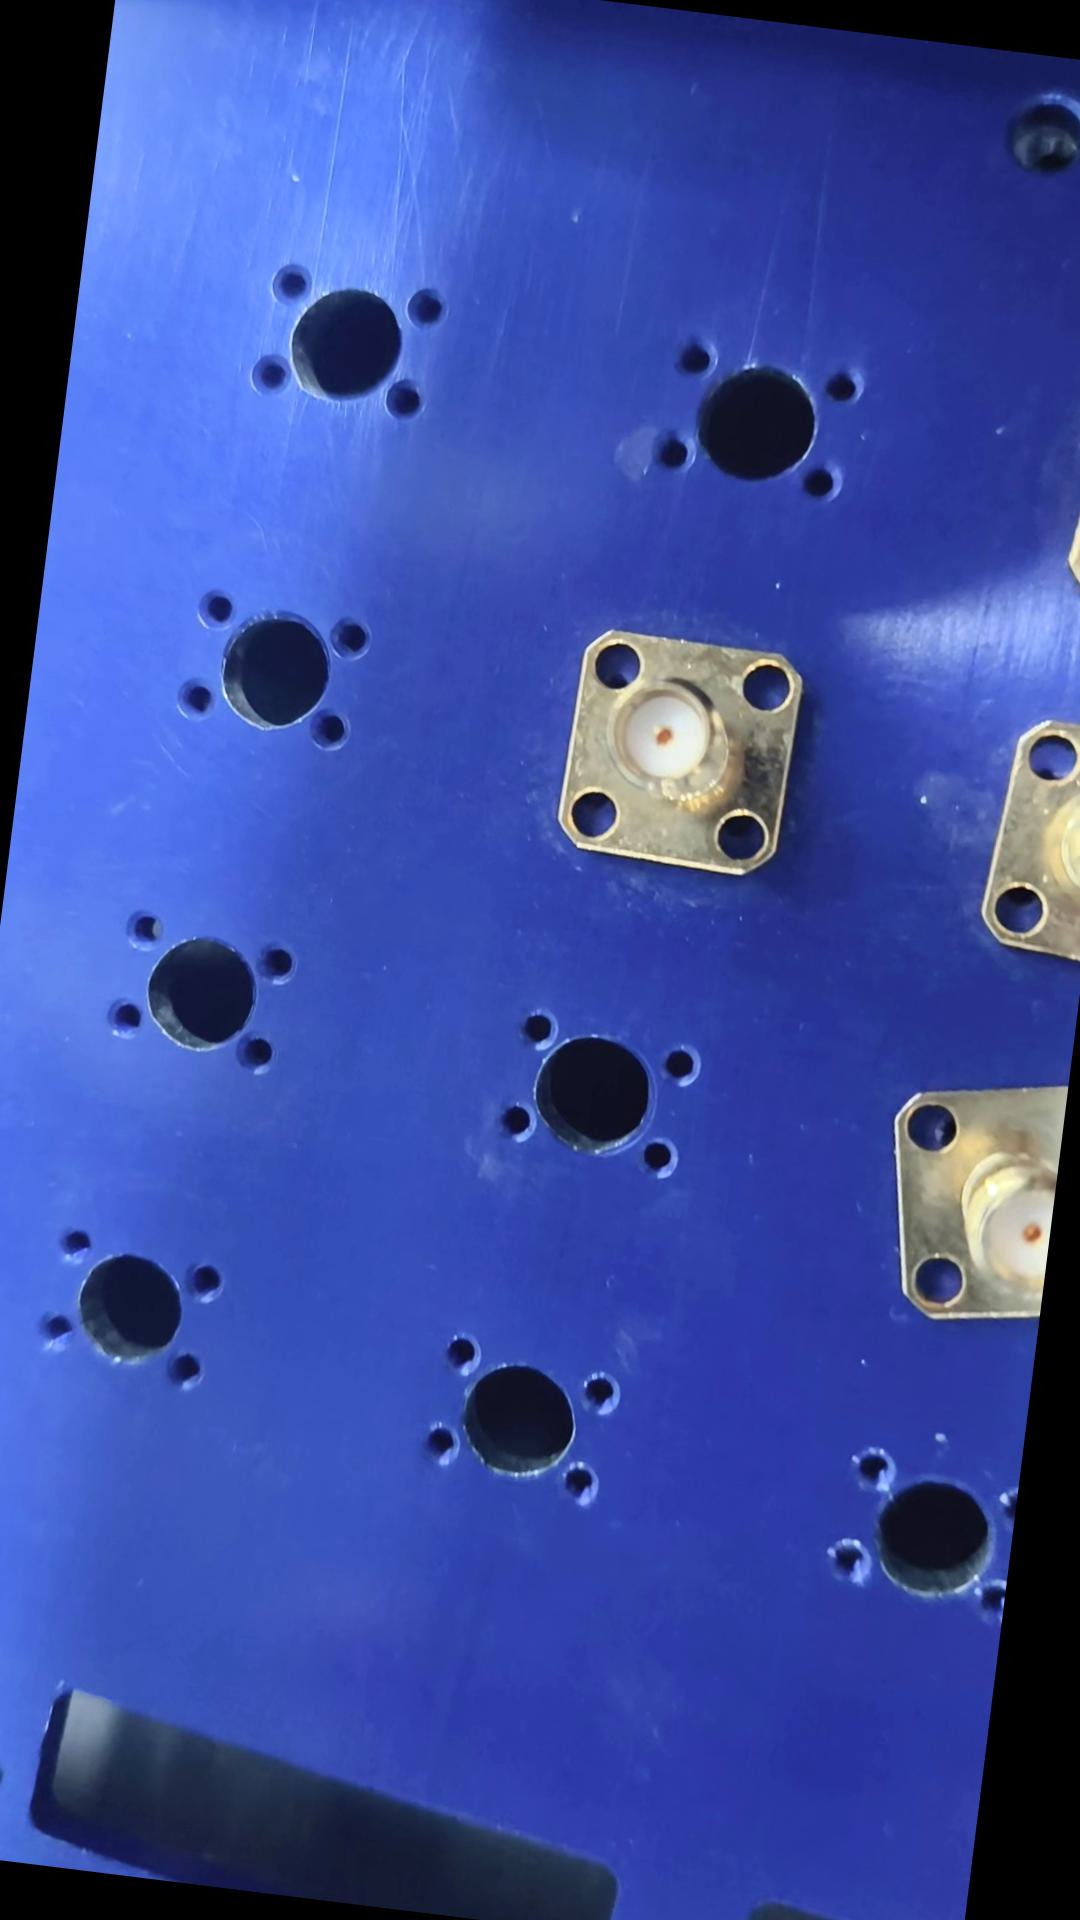SMA: (546, 626, 812, 884)
